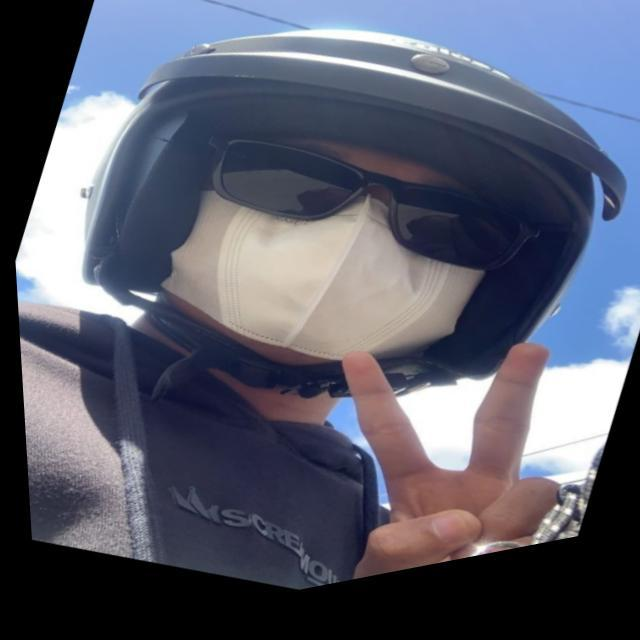Helmet: (76, 10, 621, 427)
